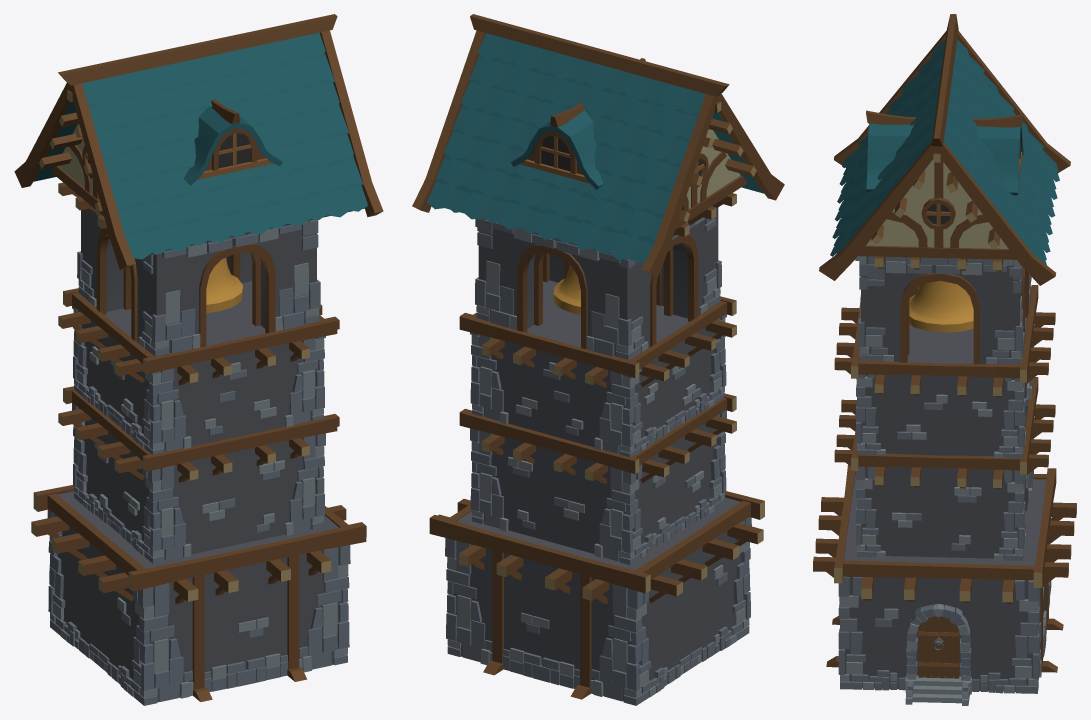
The model's file is bell_tower_lev2.glb.
3 views of the same model, side by side, from view 1: azimuth 30°, elevation 25°; view 2: azimuth 150°, elevation 25°; view 3: azimuth 270°, elevation 25° (orthographic). The views are drawn at different scales.
Parts seen in each view (by area): view 1: bell_tower_lev2; view 2: bell_tower_lev2; view 3: bell_tower_lev2.
Boxes of the visible parts, <box> form: bell_tower_lev2: <box>14,14,383,705</box>; bell_tower_lev2: <box>412,14,784,705</box>; bell_tower_lev2: <box>813,14,1076,705</box>.
Bounding box in the file's own units: 6.77 × 14.47 × 6.07.
